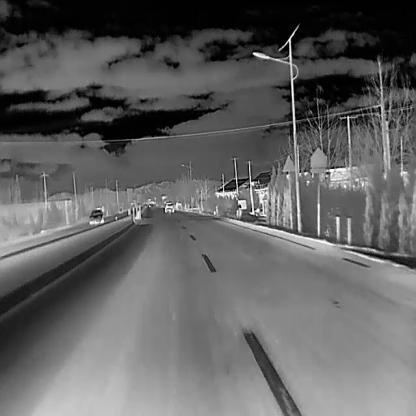car: (89, 208, 104, 225), (164, 201, 174, 214)
